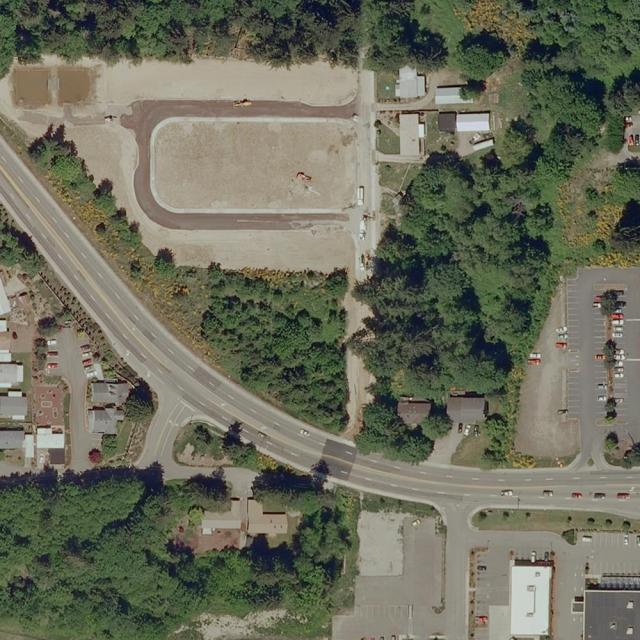building: (201, 497, 288, 535), (510, 564, 553, 636), (90, 378, 131, 406), (395, 66, 426, 99), (87, 407, 124, 434), (399, 112, 420, 156), (0, 273, 28, 301), (434, 86, 474, 105), (0, 396, 28, 420), (456, 112, 490, 131), (36, 429, 65, 450), (0, 430, 25, 450), (0, 279, 12, 316), (436, 110, 456, 132), (472, 138, 497, 152), (0, 349, 11, 362)
dryland: (0, 52, 382, 283)
greenland: (0, 116, 409, 438), (352, 146, 563, 407), (166, 401, 346, 533), (494, 107, 598, 191), (353, 392, 442, 468), (416, 401, 459, 446)
metalled_road: (332, 511, 445, 639), (40, 325, 104, 473), (145, 434, 202, 492), (552, 560, 584, 640), (220, 465, 257, 499)
